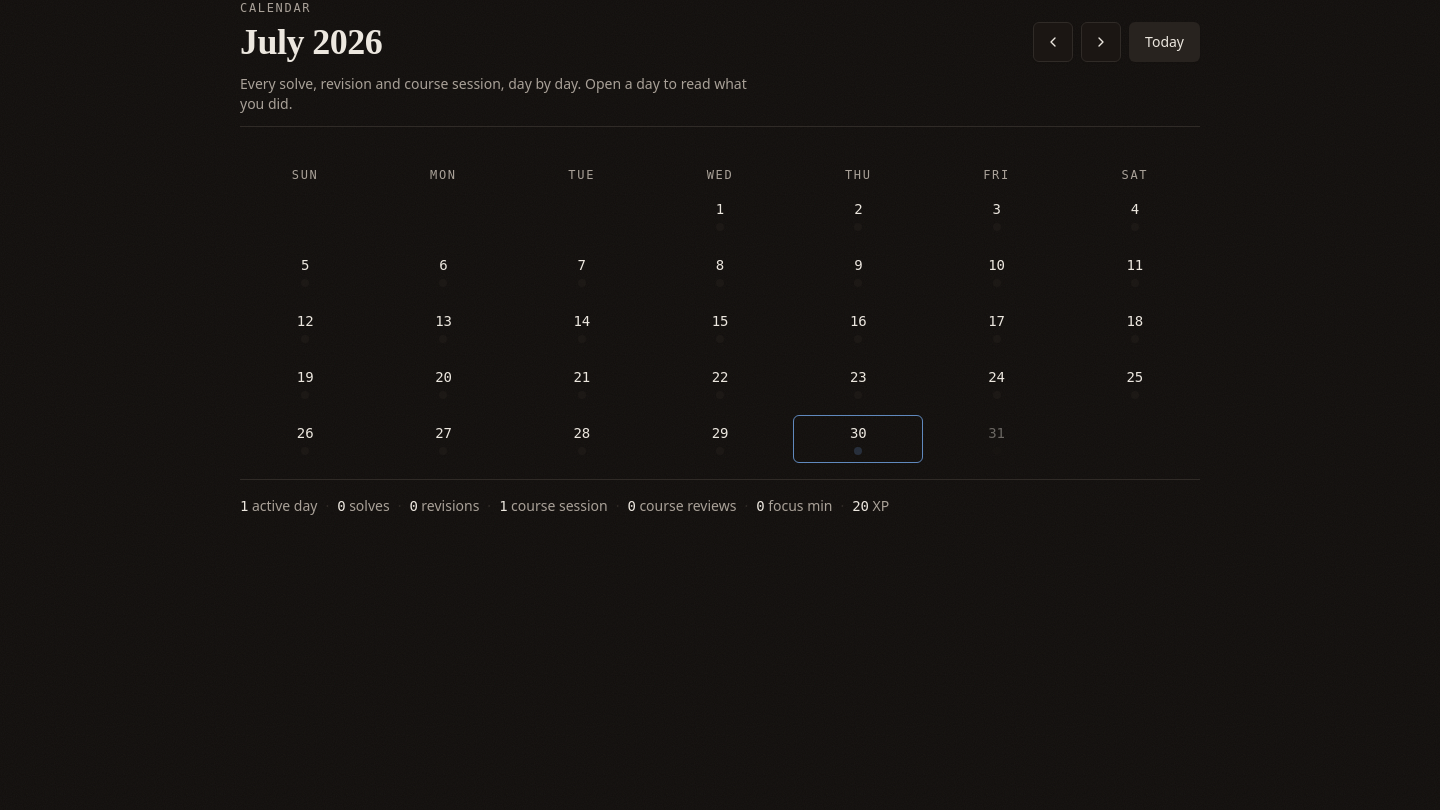
Test case: CalendarPage › a course-only day lights its cell and the dialog lists the session under Course
The image size is (1440, 810).
Click the button named "July 30, 2026 — 1 activities" at [858, 439], box [793,415,923,463]
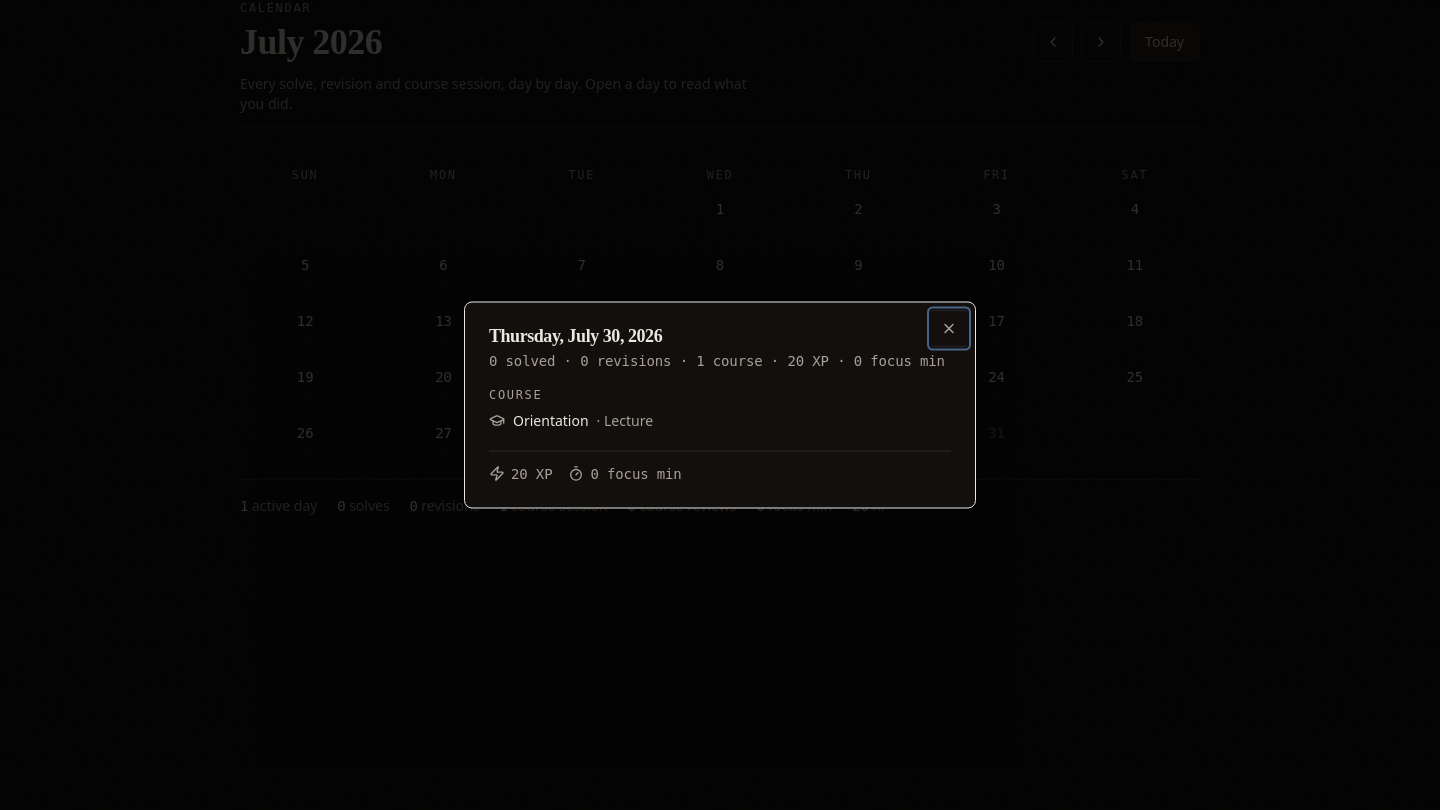
Check: the text "0 solved · 0 revisions · 1 course · 20 XP · 0 focus min" is shown, box [489,350,951,370]
Check: the text "Course" is shown, box [489,388,542,402]
Check: the text "· Lecture" is shown, box [597,410,653,430]
